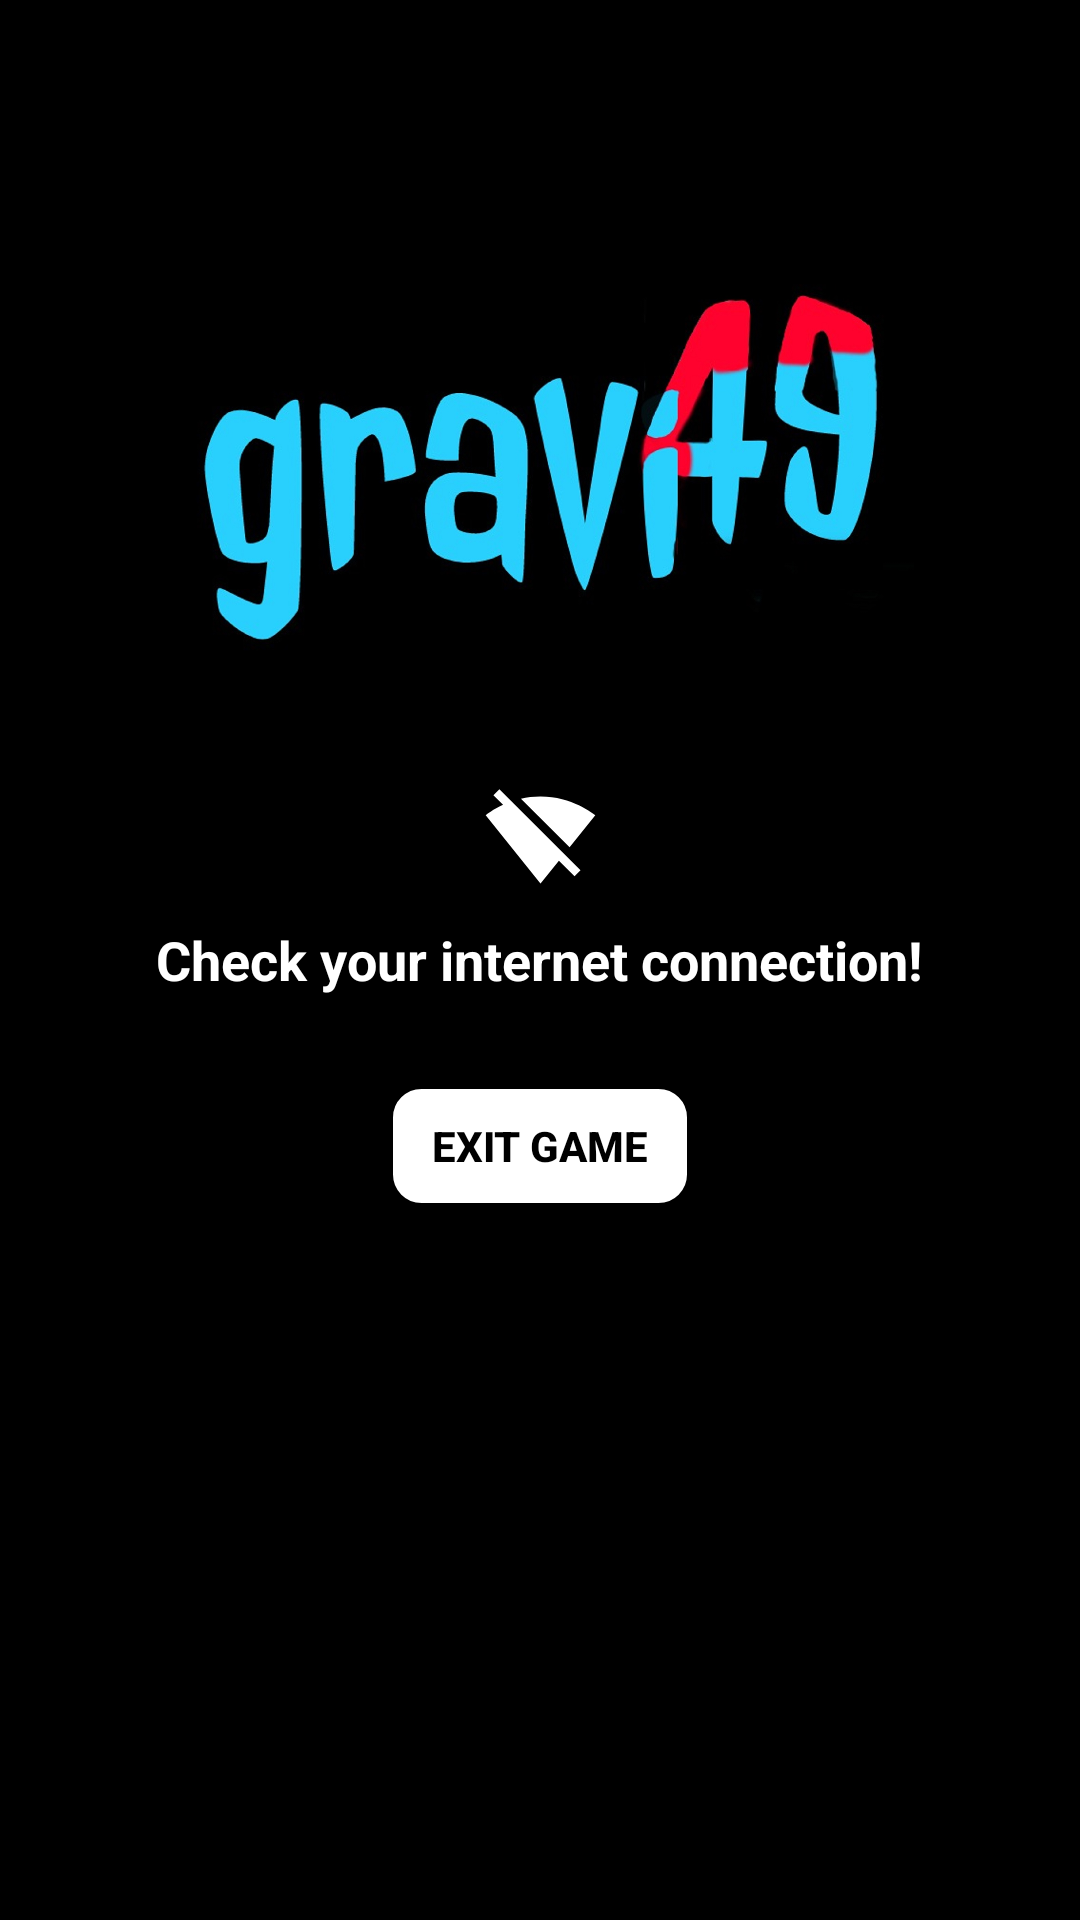

Icon bounding boxes for this 1080×1920 phone screenshot, format (x1=x1, y1=y1, x2=x2, y2=y2):
no network: (x1=486, y1=789, x2=595, y2=884)
